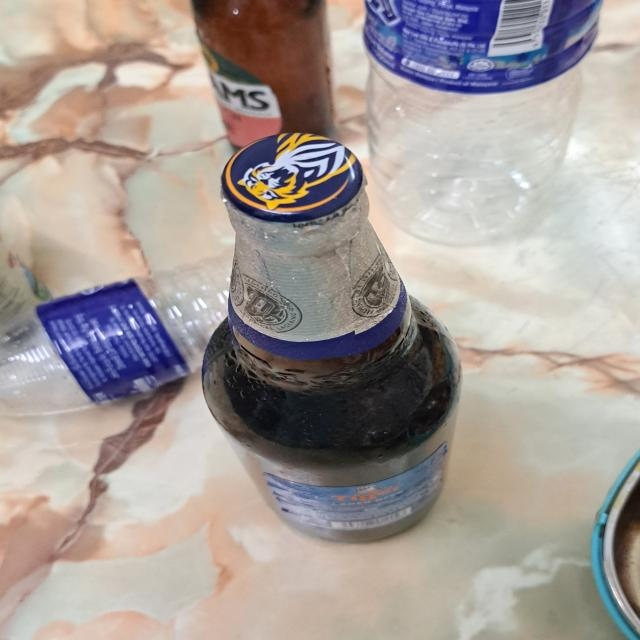glass bottle: (202, 133, 467, 546), (187, 0, 331, 158)
plastic bottle: (364, 0, 603, 244), (0, 255, 253, 419)
